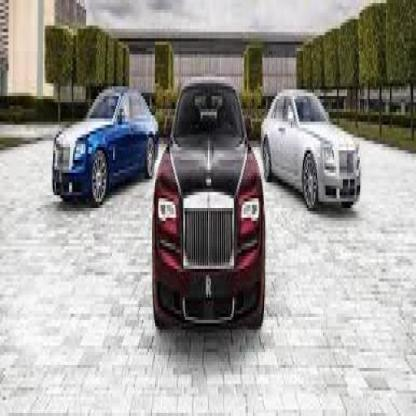car: (142, 71, 274, 347), (36, 79, 165, 211), (254, 80, 373, 213)
